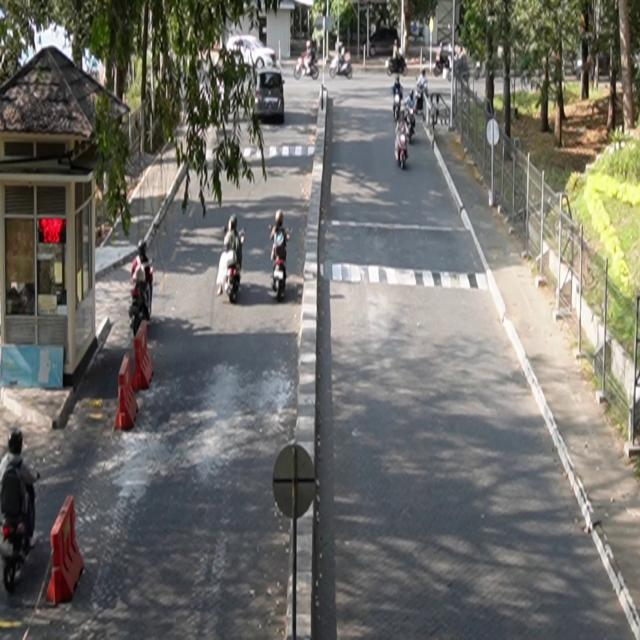car: (226, 35, 277, 71), (254, 69, 286, 124)
